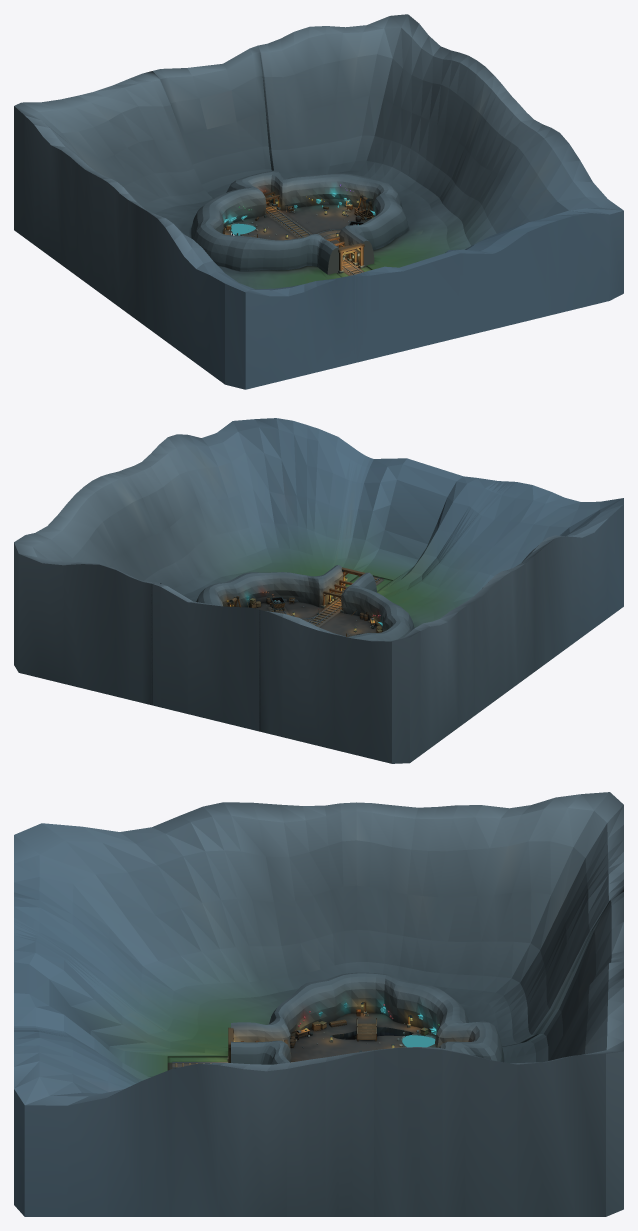
Rendered from Ville_Interior_Mine.glb.
3 renders of one model, top to bottom at view 1: azimuth 30°, elevation 25°; view 2: azimuth 150°, elevation 25°; view 3: azimuth 270°, elevation 25°, orthographic. The views are drawn at different scales.
Visible parts, largest first — view 1: Backdrop, Interior_Core, Wall_S, Wall_NE, Wall_W, Wall_N, Wall_SW, Wall_E, Wall_NW, Wall_SE; view 2: Backdrop, Interior_Core, Wall_SE, Wall_S, Wall_E, Wall_SW, Wall_W; view 3: Backdrop, Interior_Core, Wall_W, Wall_S, Wall_NW, Wall_N, Wall_SW.
Boxes of the visible parts, x1,y1,x2,y2 form: Backdrop: (14, 14, 623, 389); Interior_Core: (223, 201, 373, 277); Wall_S: (306, 225, 374, 274); Wall_NE: (291, 173, 363, 210); Wall_W: (192, 215, 257, 270); Wall_N: (226, 170, 297, 218); Wall_SW: (247, 234, 311, 271); Wall_E: (343, 177, 407, 224); Wall_NW: (191, 190, 259, 238); Wall_SE: (348, 204, 408, 250); Backdrop: (14, 418, 623, 763); Interior_Core: (248, 576, 391, 636); Wall_SE: (246, 572, 313, 611); Wall_S: (310, 565, 376, 613); Wall_E: (196, 572, 257, 607); Wall_SW: (346, 587, 399, 632); Wall_W: (363, 605, 414, 641); Backdrop: (14, 792, 623, 1216); Interior_Core: (167, 1013, 435, 1070); Wall_W: (302, 972, 408, 1023); Wall_S: (227, 1018, 291, 1064); Wall_NW: (397, 981, 468, 1035); Wall_N: (435, 1011, 503, 1062); Wall_SW: (269, 986, 346, 1053).
Bounding box in the file's own units: 79 × 31.28 × 79.
